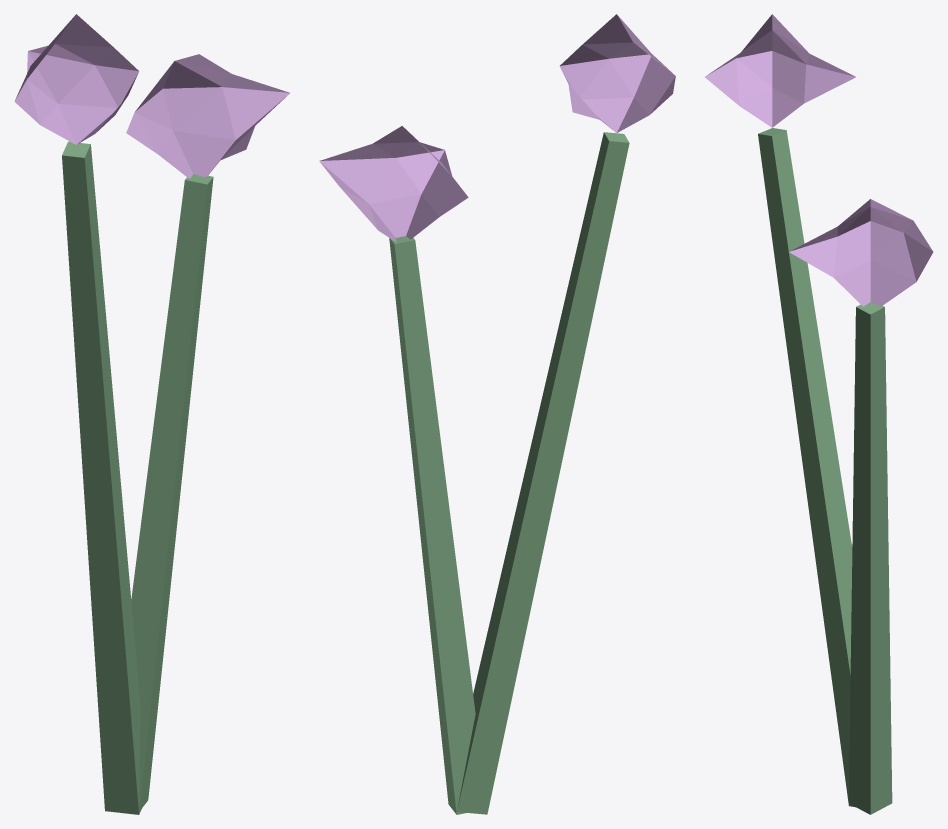
Rendered from flower_v48.glb.
3 views of the same model, side by side, from view 1: azimuth 30°, elevation 25°; view 2: azimuth 150°, elevation 25°; view 3: azimuth 270°, elevation 25° (orthographic). The views are drawn at different scales.
Parts seen in each view (by area): view 1: lod0; view 2: lod0; view 3: lod0.
Boxes of the visible parts, x1,y1,x2,y2 form: lod0: (14, 14, 289, 814); lod0: (319, 14, 675, 814); lod0: (705, 14, 933, 814).
Size of what is drawn, in the model's own units: 0.2754 by 0.6802 by 0.189.
